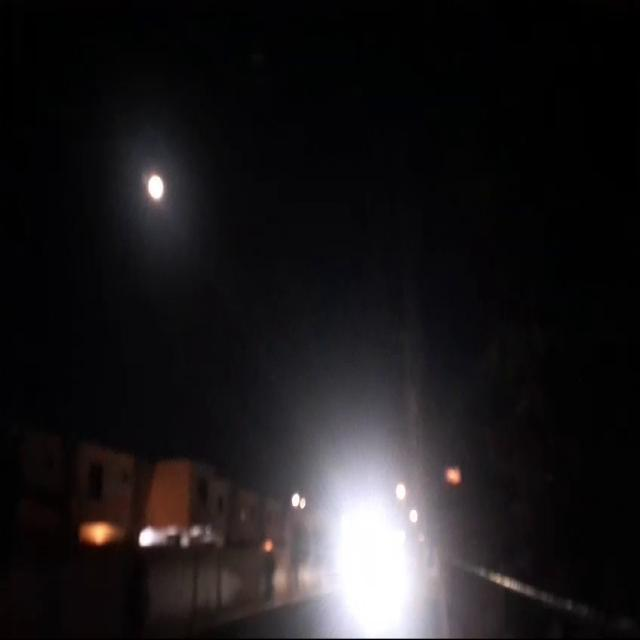moon: (153, 167, 174, 203)
